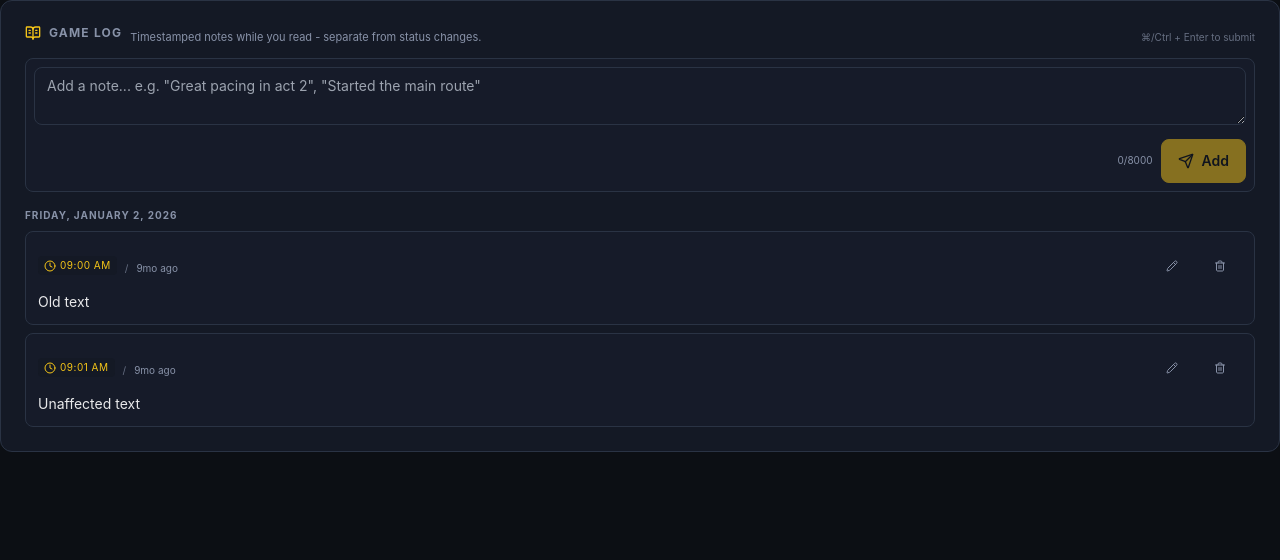
Scenario: GameLog branches › PATCHes an edited entry on save and replaces the row
The image size is (1280, 560).
Click the button named "Edit" in the row of "09:00 AM" at (1172, 266), box [1150,244,1194,288]
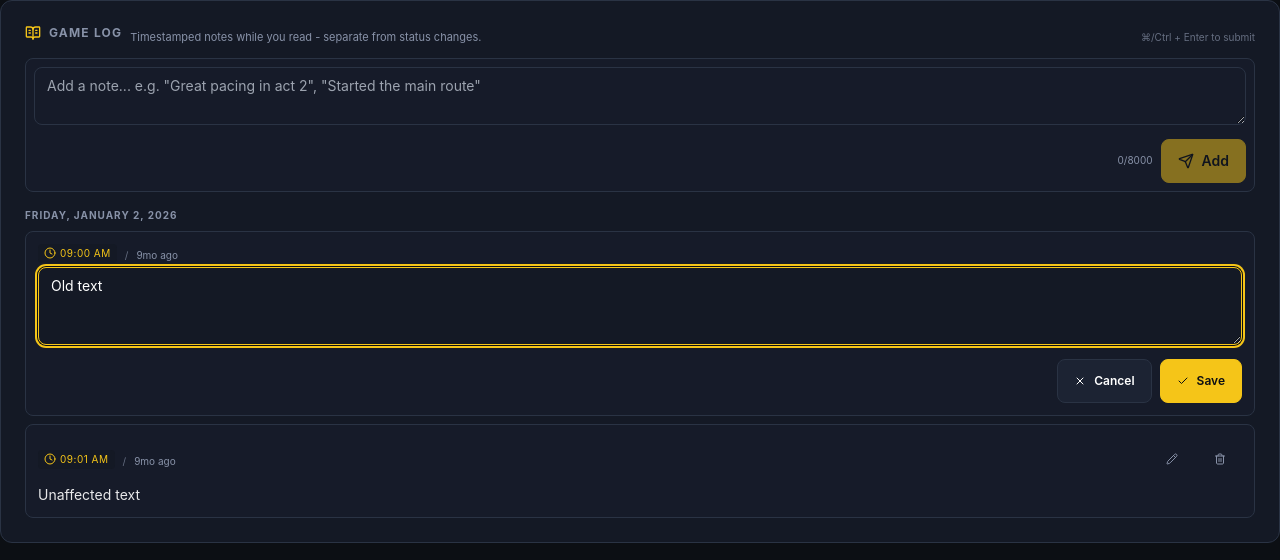
Replace the text in the text box showing "Old text" with "Updated text" at (640, 306), box [38,267,1242,345]
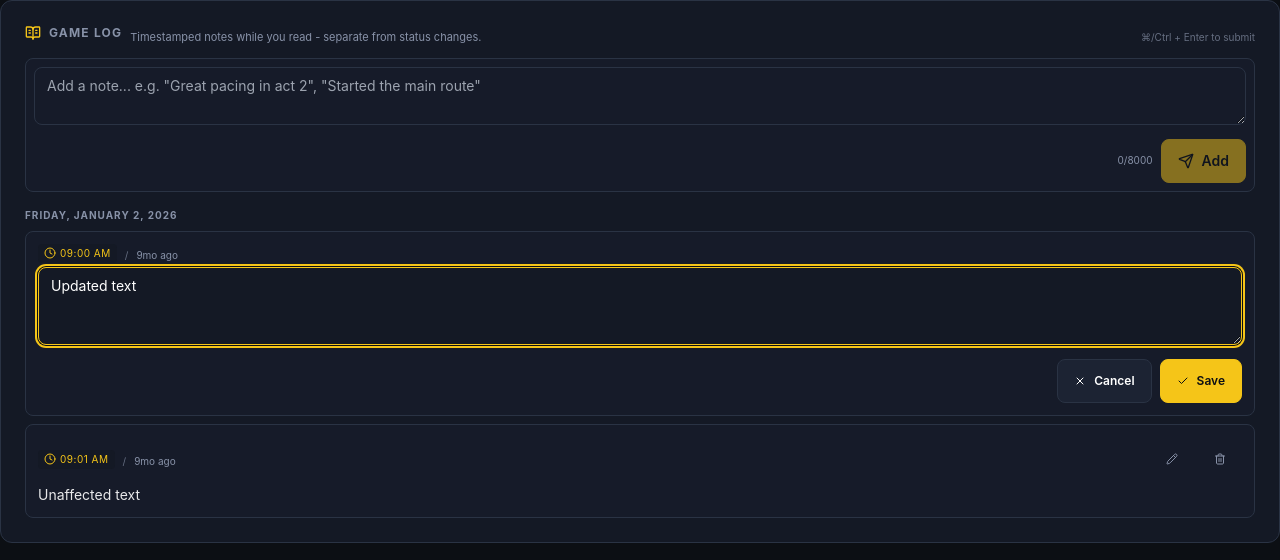
Click the button "Save" at (1201, 381), box [1160,359,1242,403]
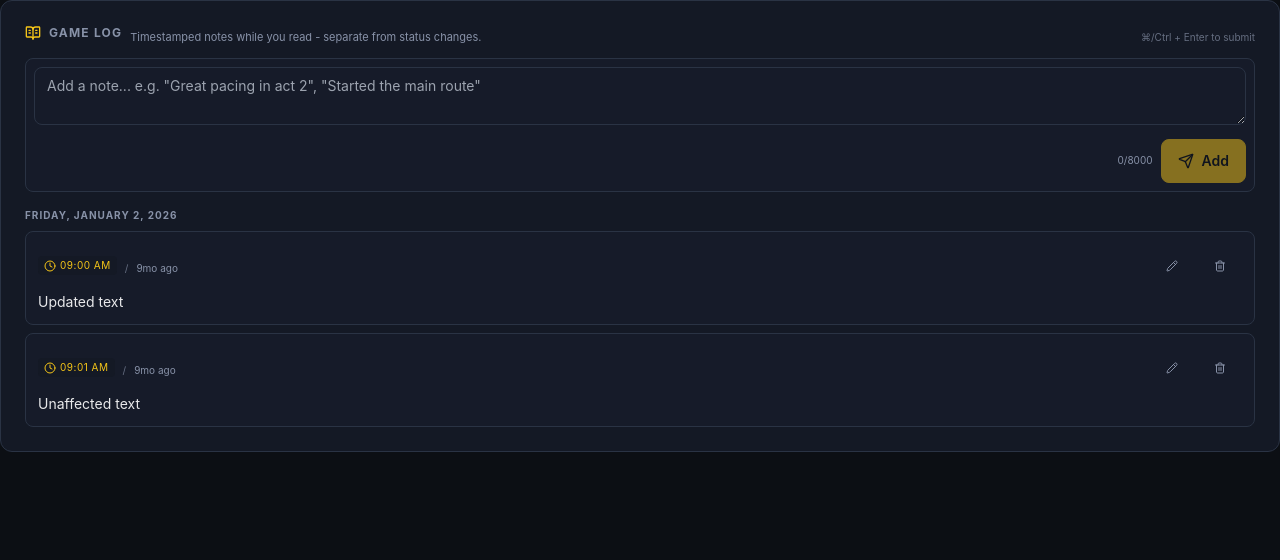
Expected: the text "Unaffected text" is shown, [38,394,140,412]
Expected: the text "Updated text" is shown, [38,292,123,310]
